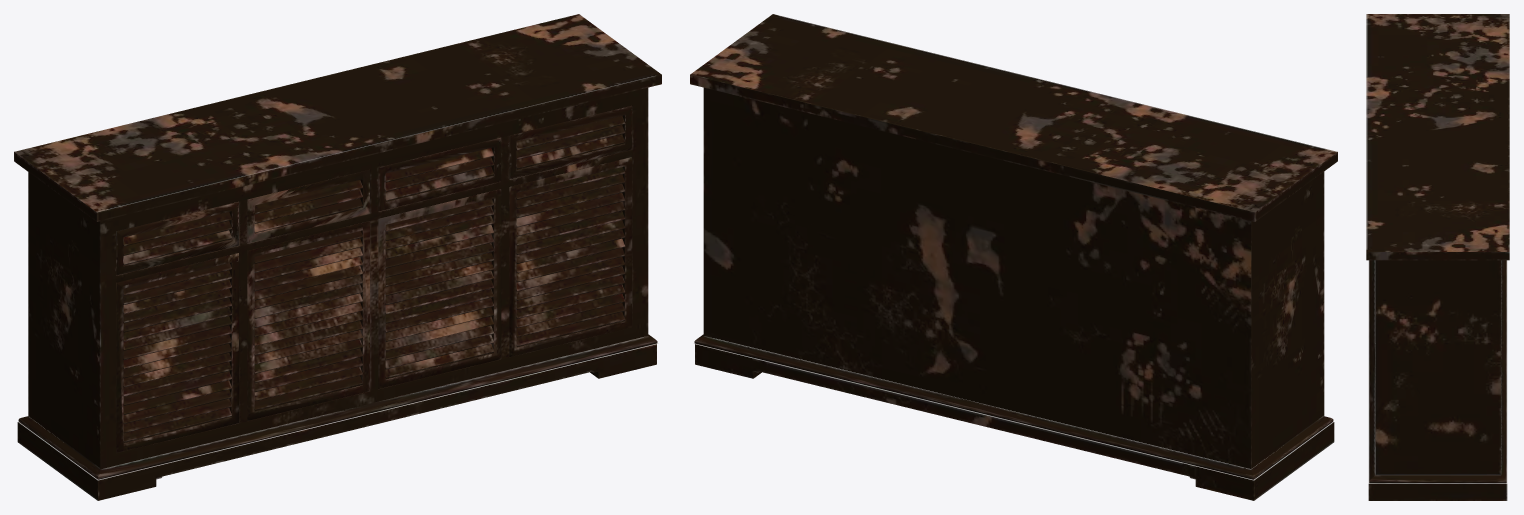
3 renders of one model, left to right at view 1: azimuth 30°, elevation 25°; view 2: azimuth 150°, elevation 25°; view 3: azimuth 270°, elevation 25°, orthographic. The views are drawn at different scales.
Parts seen in each view (by area): view 1: Aged Sideboard; view 2: Aged Sideboard; view 3: Aged Sideboard.
Part boxes in pixels (x1,y1,x2,y2): Aged Sideboard: (14,14,661,500); Aged Sideboard: (690,14,1337,500); Aged Sideboard: (1366,14,1509,500).
Size of the model in its own units: 2.1 by 1.03 by 0.5335.
Materials: 1 (1 with a texture image).
